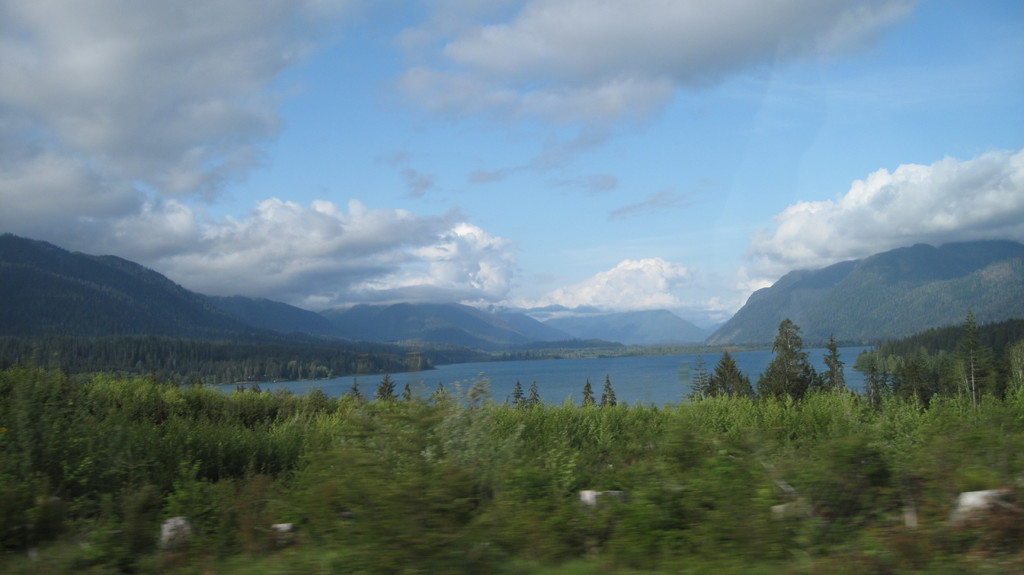Tree: (3, 318, 1023, 574)
